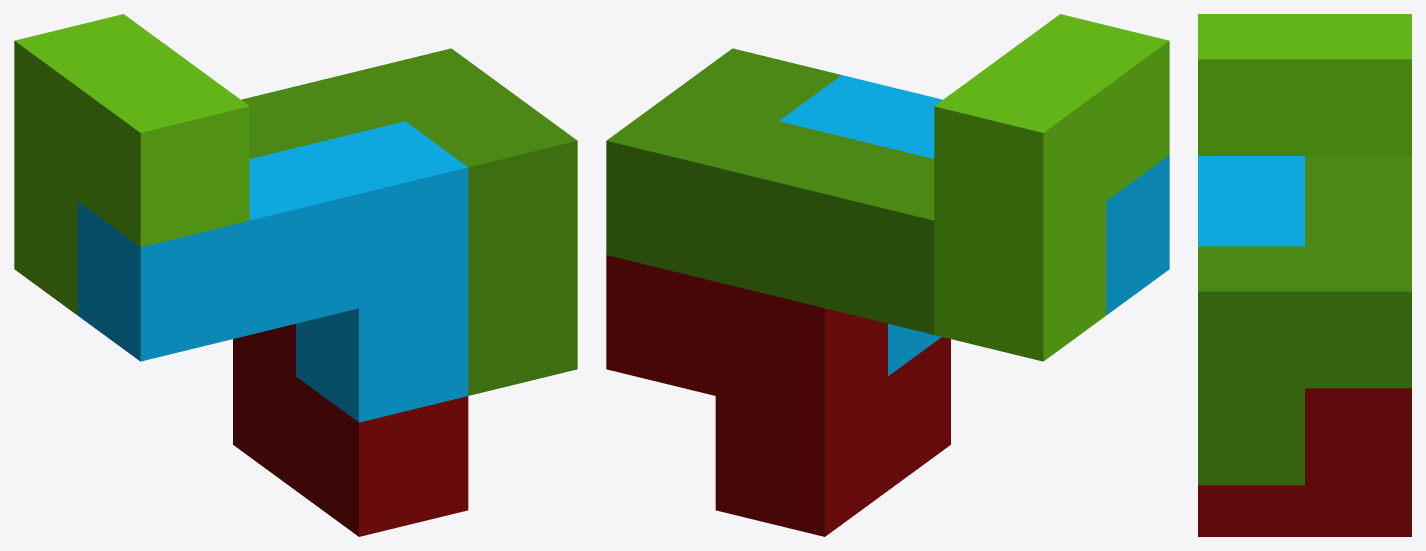
3 renders of one model, left to right at view 1: azimuth 30°, elevation 25°; view 2: azimuth 150°, elevation 25°; view 3: azimuth 270°, elevation 25°, orthographic. The views are drawn at different scales.
Visible parts, largest first — view 1: mergedBlocks(Clone); view 2: mergedBlocks(Clone); view 3: mergedBlocks(Clone).
Boxes of the visible parts, box(x1,y1,x2,y2) form: mergedBlocks(Clone): box(14, 14, 577, 536); mergedBlocks(Clone): box(606, 14, 1169, 536); mergedBlocks(Clone): box(1198, 14, 1411, 536).
Size of the model in its own units: 4 by 4 by 2.
Materials: 4 (4 with a texture image).
